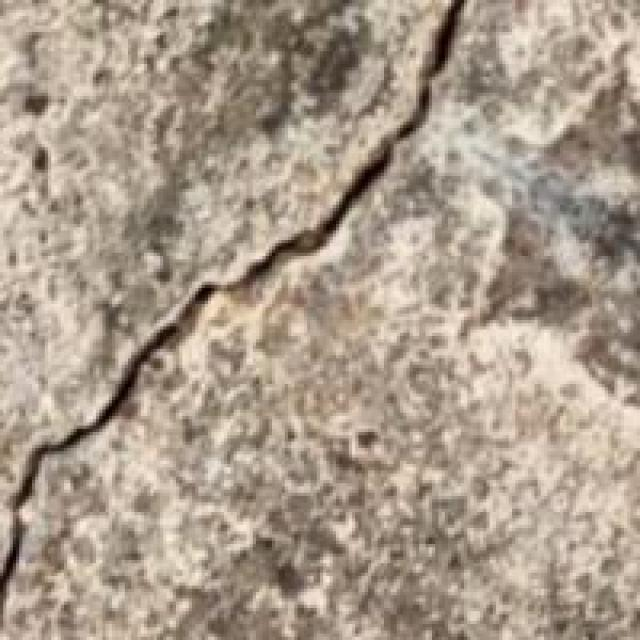Crack: (3, 0, 489, 630)
